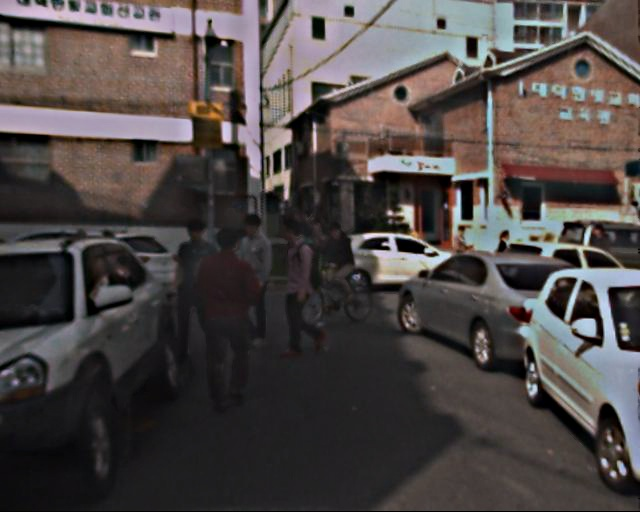person: (188, 232, 263, 415), (167, 220, 226, 364), (224, 213, 281, 352), (273, 223, 328, 357), (321, 222, 357, 311), (449, 226, 478, 296), (586, 225, 613, 292), (491, 228, 517, 292)
